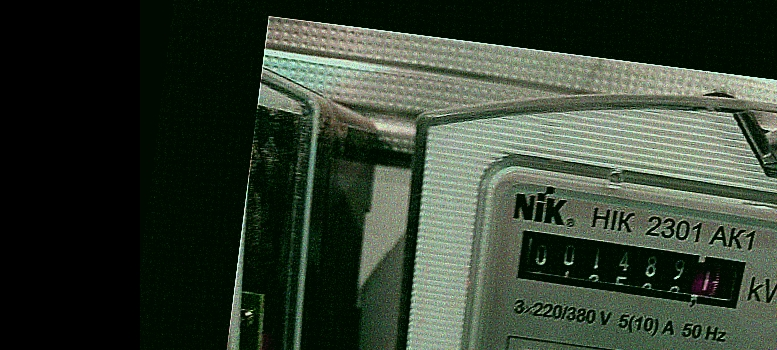0: (560, 240, 579, 267), (533, 240, 551, 267)
1: (588, 243, 606, 273), (698, 262, 714, 294)
4: (615, 247, 634, 275)
8: (641, 250, 661, 279)
9: (670, 256, 688, 282)
screen: (500, 217, 763, 324)
